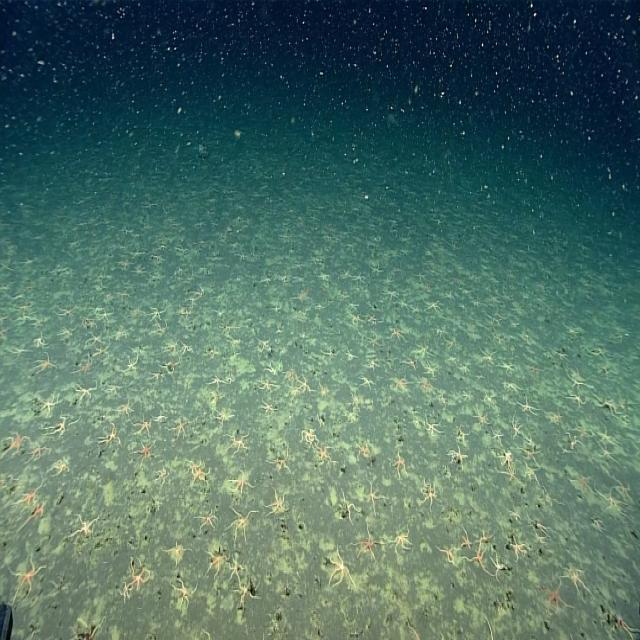brittle-stars: (7, 555, 45, 603), (537, 575, 572, 616), (463, 538, 496, 578), (594, 482, 627, 516), (351, 526, 385, 558), (12, 477, 44, 511), (566, 567, 596, 603), (326, 549, 354, 586), (17, 503, 44, 536), (170, 574, 199, 604), (266, 445, 294, 476), (125, 561, 152, 593), (226, 511, 256, 539), (358, 484, 386, 514), (226, 468, 254, 495), (71, 619, 107, 640), (67, 515, 96, 541), (387, 526, 412, 556), (231, 580, 262, 603), (3, 431, 29, 458), (489, 552, 507, 589), (205, 548, 230, 574), (596, 393, 622, 418), (194, 509, 218, 535), (615, 616, 640, 640), (266, 489, 288, 516), (507, 535, 529, 561), (435, 541, 458, 565), (313, 443, 334, 469), (339, 491, 356, 523), (563, 429, 586, 452), (34, 352, 58, 374), (42, 418, 67, 439), (45, 458, 70, 479), (517, 395, 541, 416), (130, 444, 155, 463), (97, 427, 122, 446), (479, 615, 498, 640), (73, 383, 99, 401), (70, 356, 92, 377), (497, 466, 520, 486), (226, 436, 251, 454), (421, 479, 436, 509), (517, 446, 542, 464), (392, 452, 408, 480), (26, 446, 50, 464), (131, 417, 152, 437), (471, 406, 491, 427), (572, 475, 593, 495), (596, 426, 616, 447), (567, 386, 586, 408), (450, 444, 467, 468), (300, 428, 320, 448), (564, 369, 585, 388), (191, 466, 210, 486), (480, 345, 498, 366), (41, 395, 58, 417), (230, 555, 243, 583), (423, 418, 443, 436), (497, 447, 515, 467), (422, 296, 442, 314), (146, 307, 169, 322), (256, 378, 279, 393), (168, 422, 188, 439), (90, 342, 110, 359), (523, 462, 539, 483), (55, 303, 77, 318), (545, 408, 563, 426), (414, 341, 434, 357), (150, 318, 167, 336), (156, 360, 181, 372), (475, 530, 496, 544), (574, 421, 591, 438), (512, 414, 524, 438), (536, 522, 552, 540), (259, 398, 277, 414), (115, 401, 134, 416), (298, 375, 314, 392), (423, 358, 438, 376), (357, 441, 370, 461), (459, 529, 472, 549), (387, 328, 407, 341), (84, 332, 104, 345), (392, 376, 407, 393), (401, 356, 418, 371), (94, 309, 115, 321), (207, 375, 226, 388), (506, 505, 521, 521), (118, 584, 133, 600), (124, 356, 138, 373), (105, 382, 122, 396), (215, 409, 228, 427), (350, 391, 361, 412), (458, 425, 470, 444), (58, 327, 77, 339), (359, 374, 374, 389), (320, 347, 340, 358), (409, 622, 421, 640), (416, 374, 428, 392), (157, 467, 169, 485), (343, 348, 358, 362), (364, 336, 380, 349), (528, 364, 544, 376), (180, 340, 193, 354), (490, 427, 502, 442), (554, 351, 570, 362), (364, 359, 381, 369), (258, 339, 271, 352), (34, 335, 46, 349), (502, 362, 516, 372), (282, 370, 296, 380), (264, 364, 276, 374), (202, 630, 212, 640)
